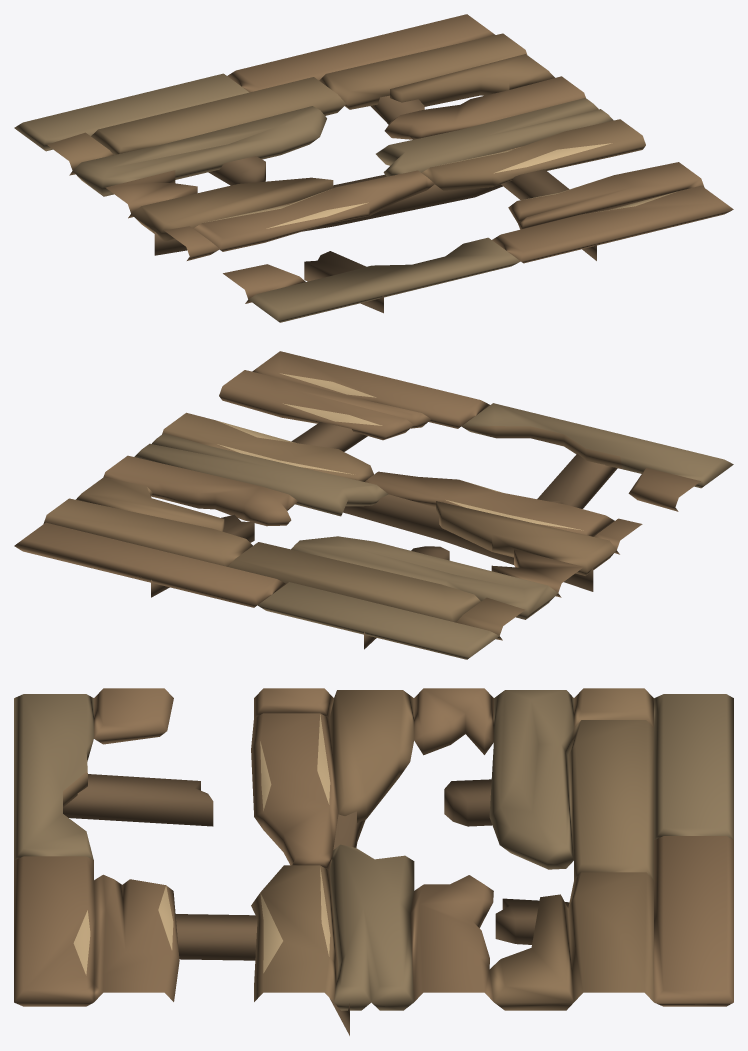
File: rpgpp_av_floor_01e_3x3_2side.gltf
3 renders of one model, top to bottom at view 1: azimuth 30°, elevation 25°; view 2: azimuth 150°, elevation 25°; view 3: azimuth 270°, elevation 25°, orthographic. The views are drawn at different scales.
Visible parts, largest first — view 1: rpgpp_av_floor_01e_3x3_2side; view 2: rpgpp_av_floor_01e_3x3_2side; view 3: rpgpp_av_floor_01e_3x3_2side.
Part boxes in pixels (x1,y1,x2,y2): rpgpp_av_floor_01e_3x3_2side: (14, 14, 733, 322); rpgpp_av_floor_01e_3x3_2side: (14, 351, 733, 659); rpgpp_av_floor_01e_3x3_2side: (14, 688, 733, 1035).
Size of the model in its own units: 0.03 by 0.00263 by 0.03.
1 material, 1 textured.
